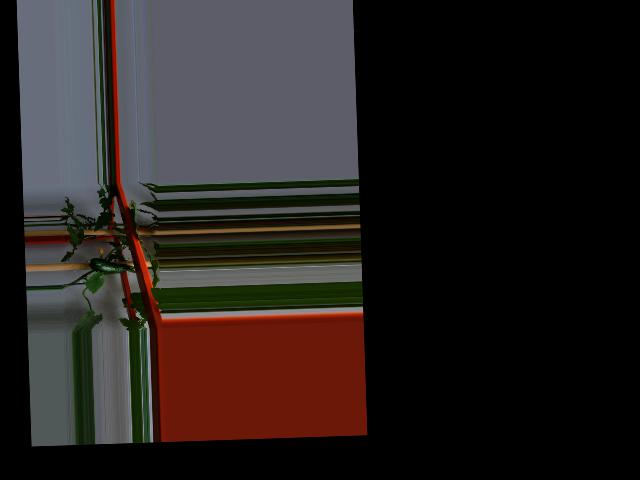cucumber: (85, 256, 128, 274)
